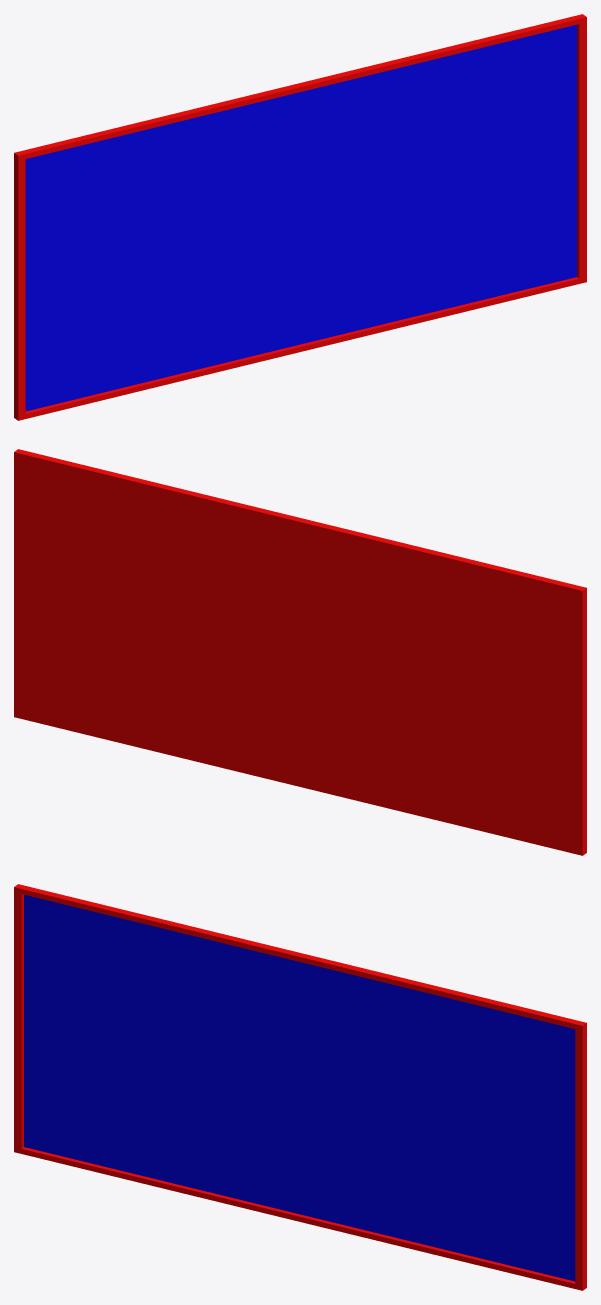
The model's file is chalk_board.FBX.
The picture shows the model from 3 angles, top to bottom: view 1: azimuth 30°, elevation 25°; view 2: azimuth 150°, elevation 25°; view 3: azimuth 330°, elevation 25°; orthographic projection.
Parts seen in each view (by area): view 1: ChalkBoard; view 2: ChalkBoard; view 3: ChalkBoard.
Boxes of the visible parts, bbox=[...] form: ChalkBoard: bbox=[14, 14, 586, 420]; ChalkBoard: bbox=[14, 449, 586, 855]; ChalkBoard: bbox=[14, 884, 586, 1290].
Bounding box in the file's own units: 319 × 142 × 4.13.
